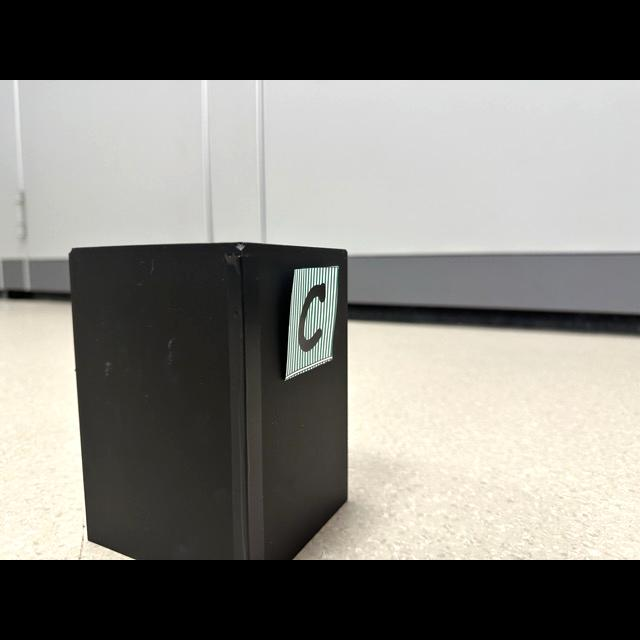C: (298, 283, 325, 351)
